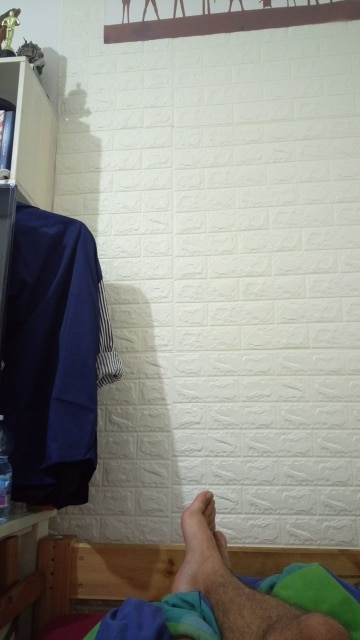shirts: (21, 197, 121, 515)
